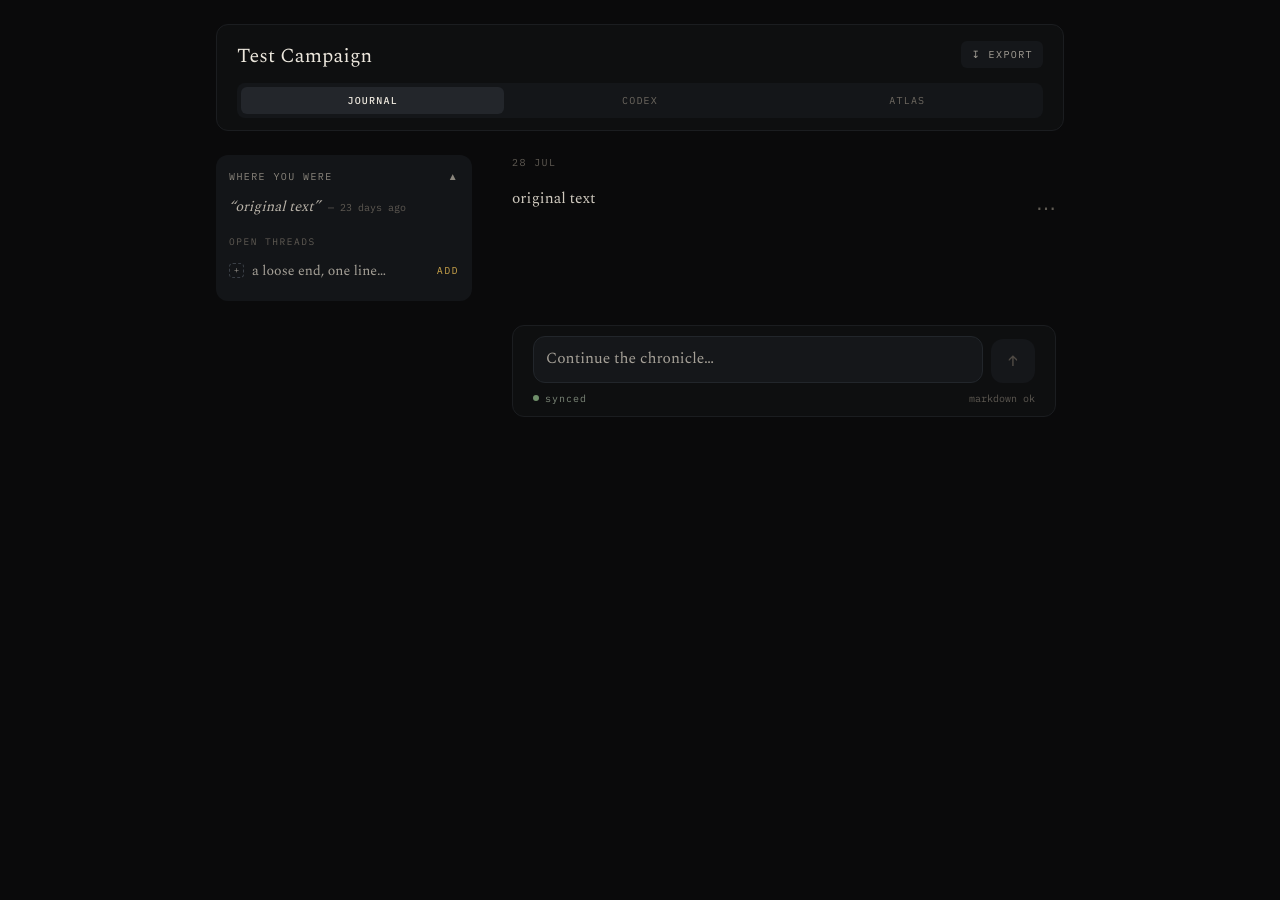
Test case: Entry edit — the collision law (Lap 6) › blocks edit save with empty content — the Save control is disabled
The width and height of the screenshot is (1280, 900).
Expected: the text "original text" is shown, [512,187,596,210]
Click the button named "Entry actions" at (1046, 208), box [1024,186,1068,230]
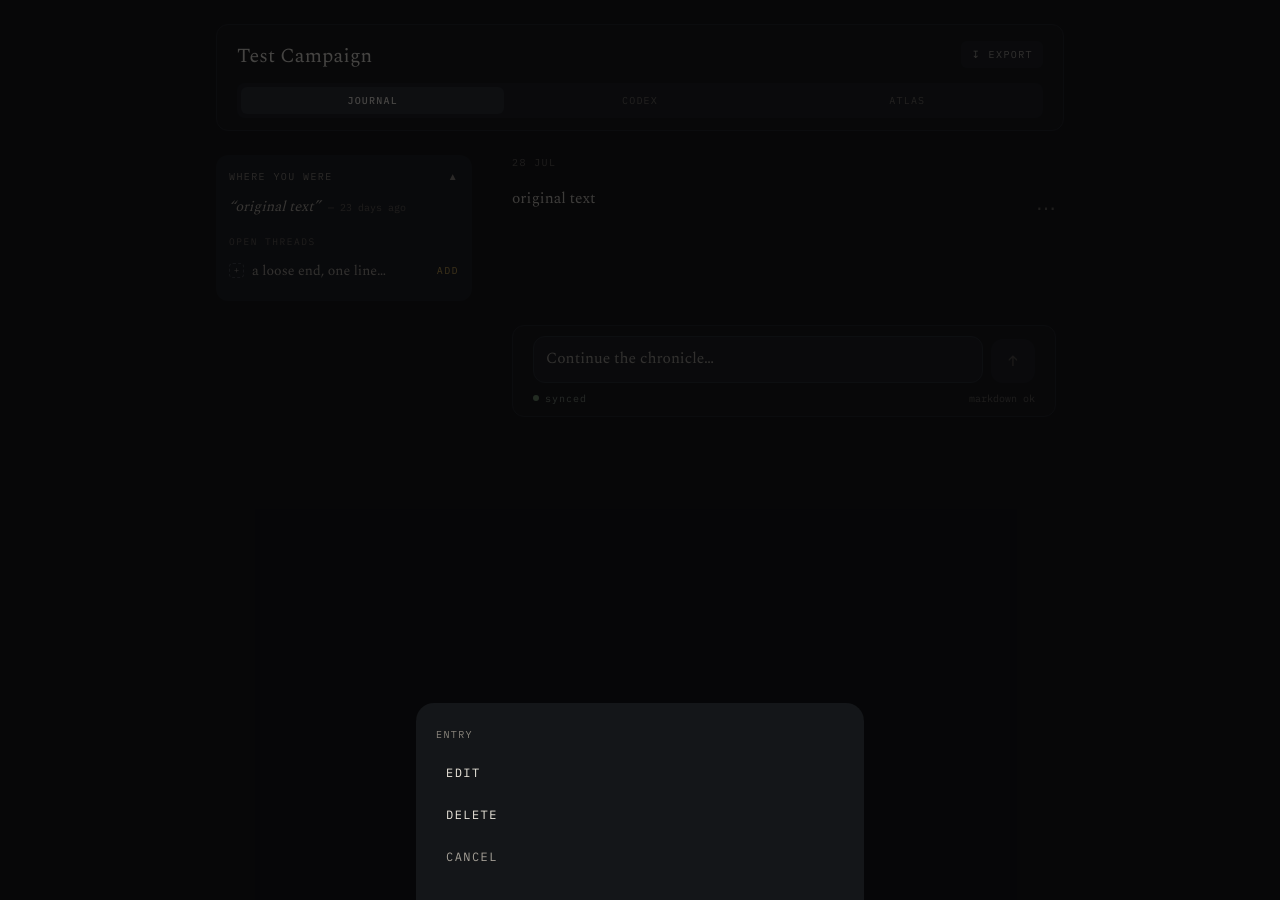
Click the button "Edit" at (463, 772), box [436,754,844,792]
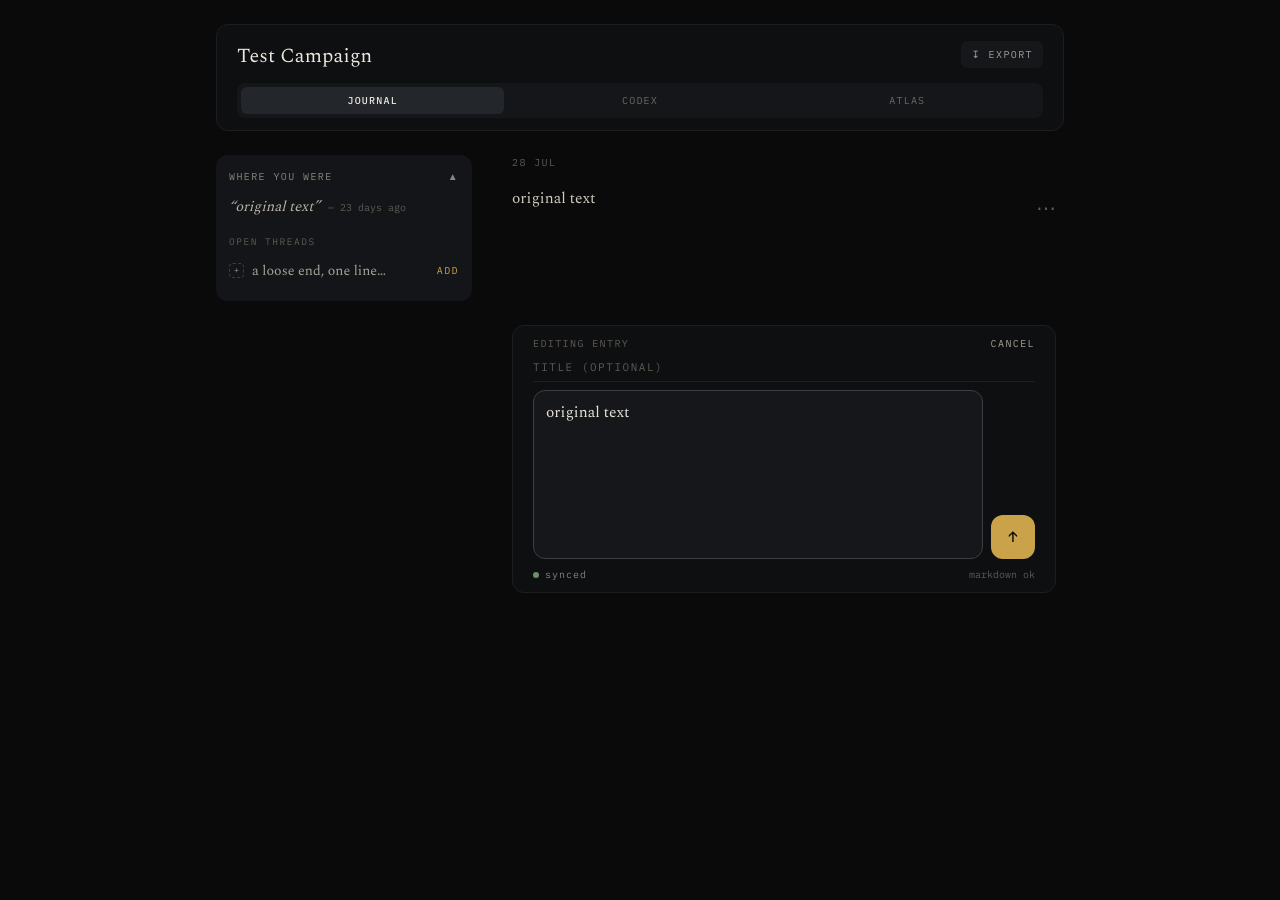
Clear the text box with placeholder "Continue the chronicle…" at (758, 475), box [533,390,983,559]
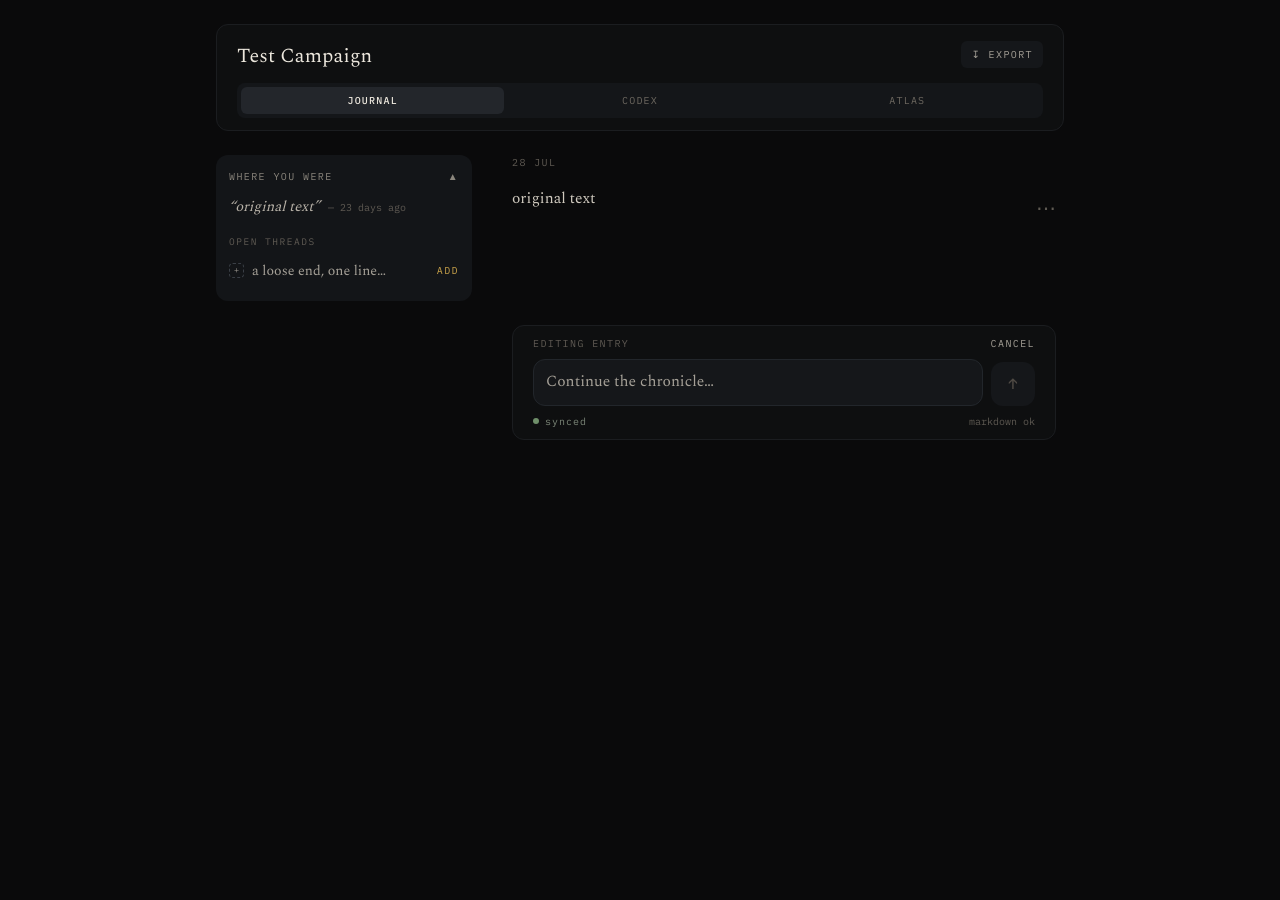
Expected: the button named "Save edit" is disabled, [991,362,1035,406]
